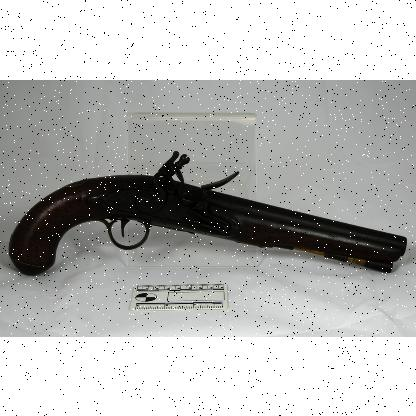gun: (8, 150, 406, 274)
